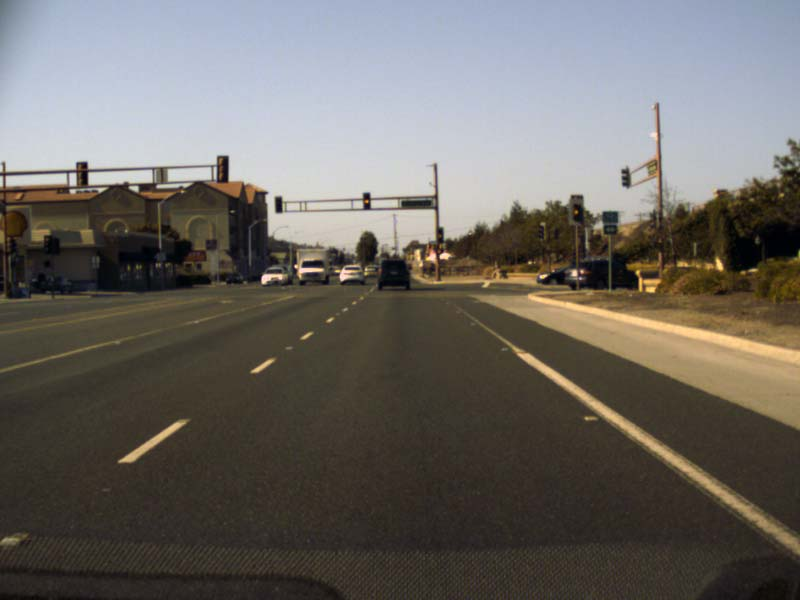Yellow: (362, 192, 371, 209), (572, 203, 580, 222), (437, 228, 443, 244), (468, 230, 471, 236)
